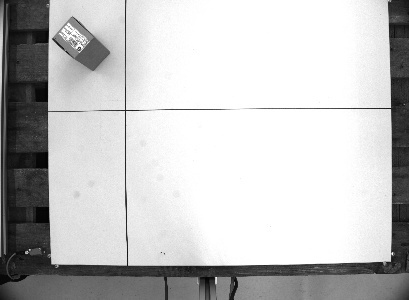b2: (51, 14, 111, 72)
